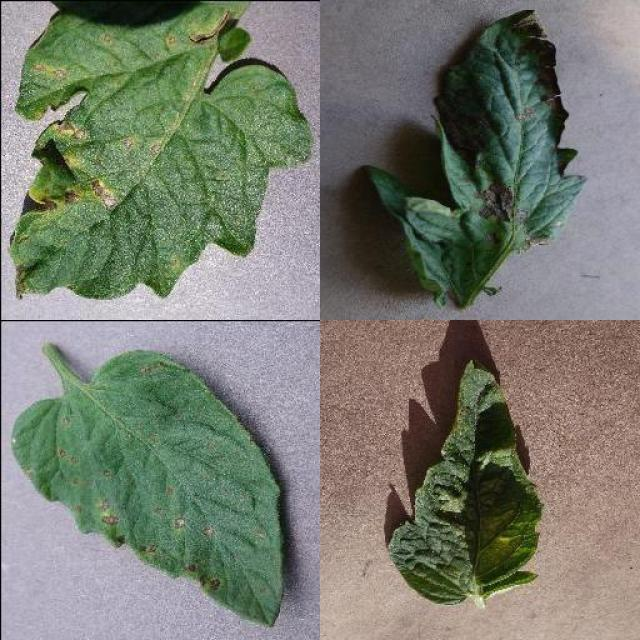Early Blight: (362, 7, 588, 312)
Septoria: (9, 0, 311, 304), (9, 349, 282, 629)
